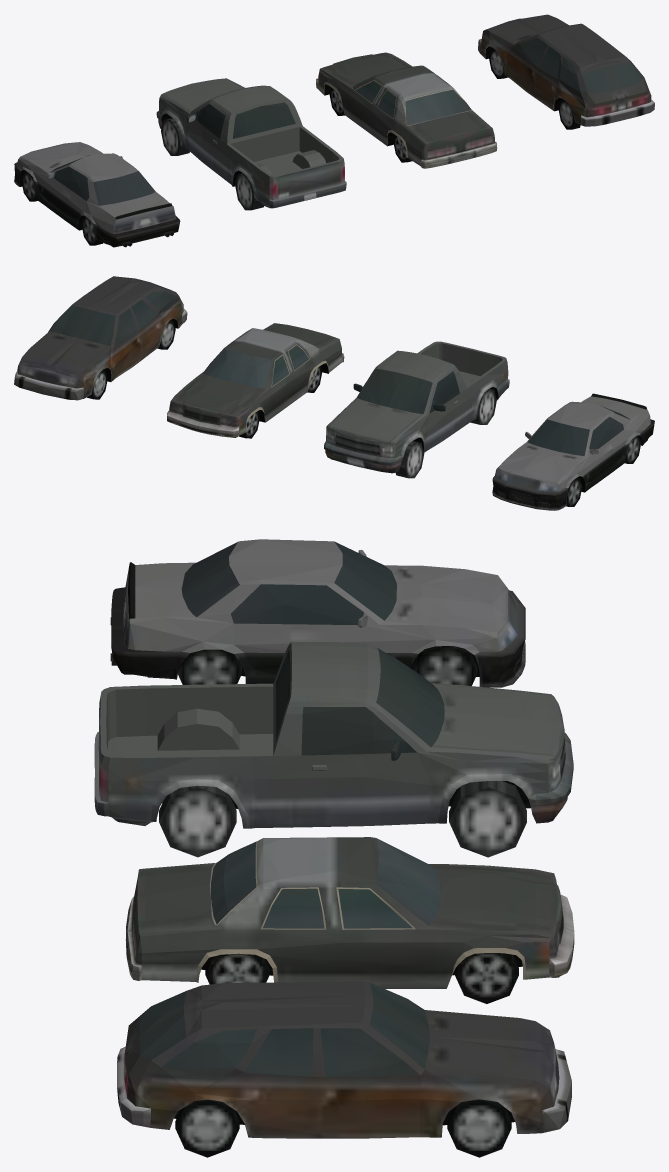
File: civilian_cars_pack.glb
The picture shows the model from 3 angles, top to bottom: view 1: azimuth 30°, elevation 25°; view 2: azimuth 150°, elevation 25°; view 3: azimuth 270°, elevation 25°; orthographic projection. The views are drawn at different scales.
Visible parts, largest first — view 1: car2_Material01_0, car4_Material01_0, car3_Material01_0, car1_Material01_0; view 2: car2_Material01_0, car4_Material01_0, car3_Material01_0, car1_Material01_0; view 3: car2_Material01_0, car4_Material01_0, car3_Material01_0, car1_Material01_0.
Boxes of the visible parts, <box> form: car2_Material01_0: <box>156,78,346,210</box>; car4_Material01_0: <box>478,14,654,129</box>; car3_Material01_0: <box>316,52,497,168</box>; car1_Material01_0: <box>14,142,180,247</box>; car2_Material01_0: <box>324,341,509,478</box>; car4_Material01_0: <box>14,276,187,400</box>; car3_Material01_0: <box>167,323,344,438</box>; car1_Material01_0: <box>492,393,654,510</box>; car2_Material01_0: <box>94,642,573,857</box>; car4_Material01_0: <box>117,981,571,1157</box>; car3_Material01_0: <box>125,837,574,1003</box>; car1_Material01_0: <box>110,539,525,687</box>.
Size of the model in its own units: 111 by 15.39 by 42.72.
1 material, 1 textured.
